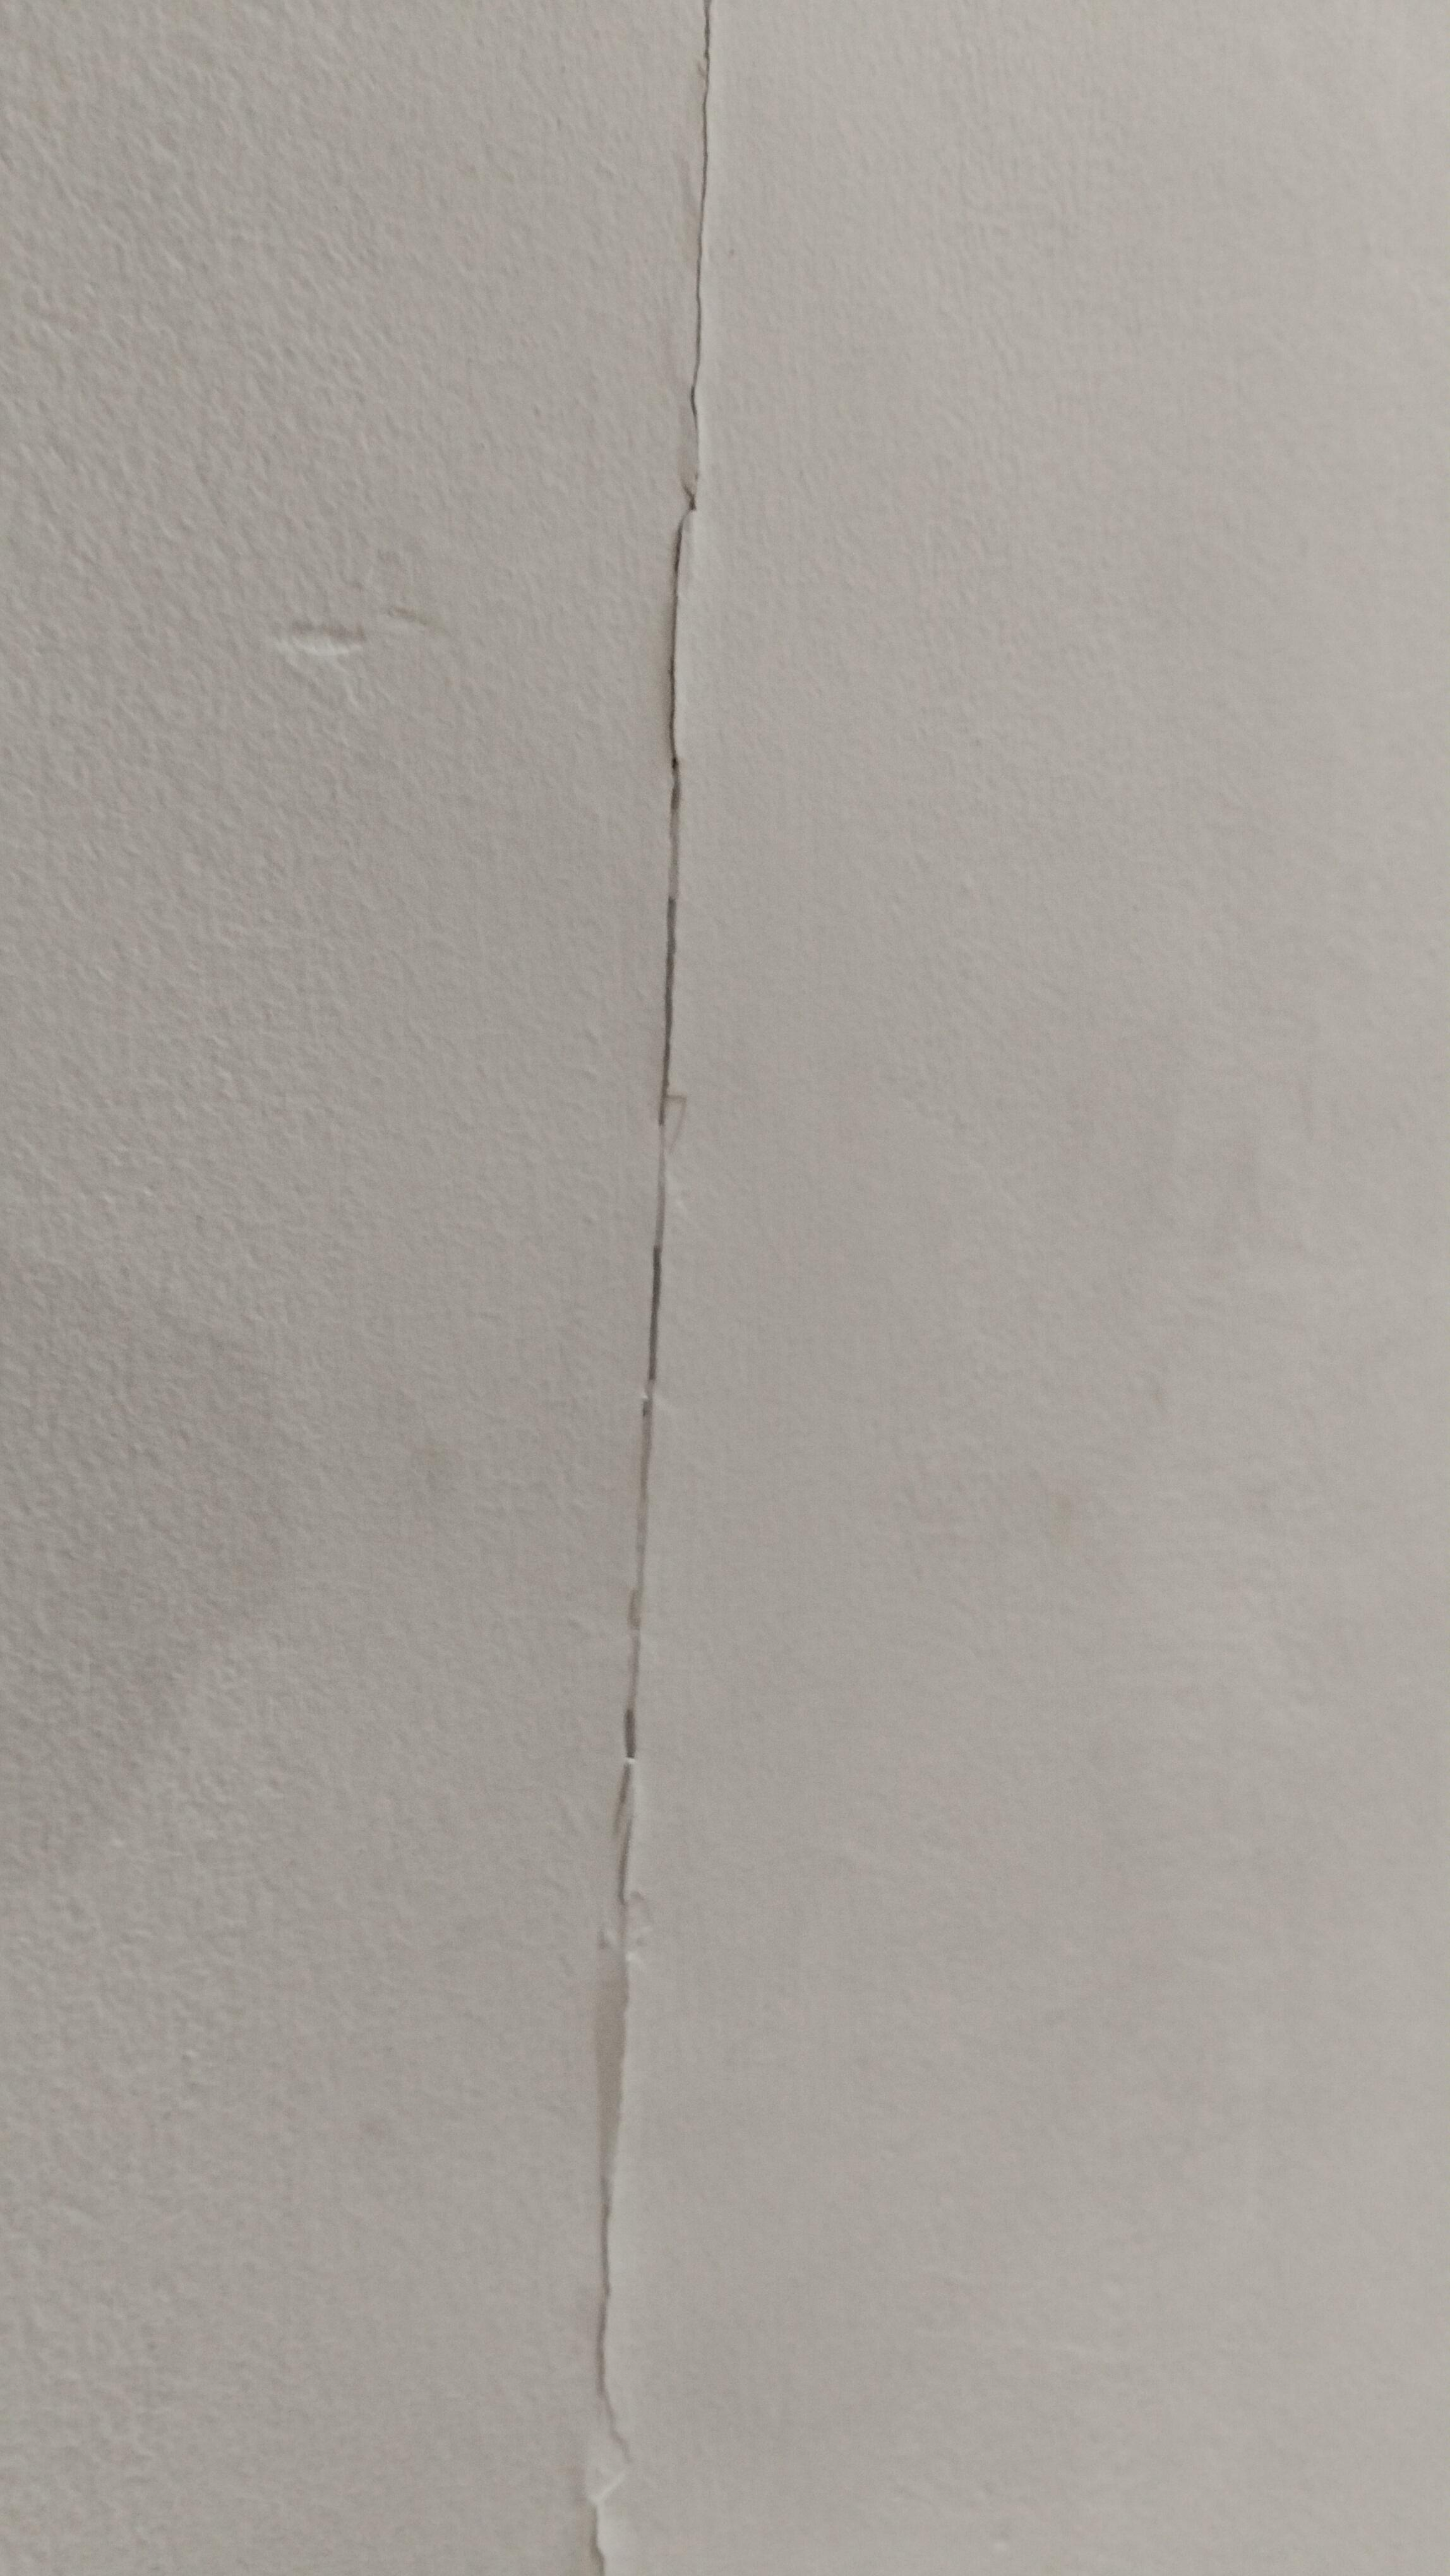Crack: (604, 1148, 680, 1951), (644, 506, 699, 1155), (675, 0, 726, 522)
